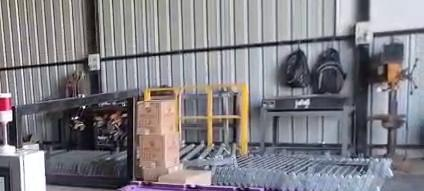box: (117, 183, 261, 190)
